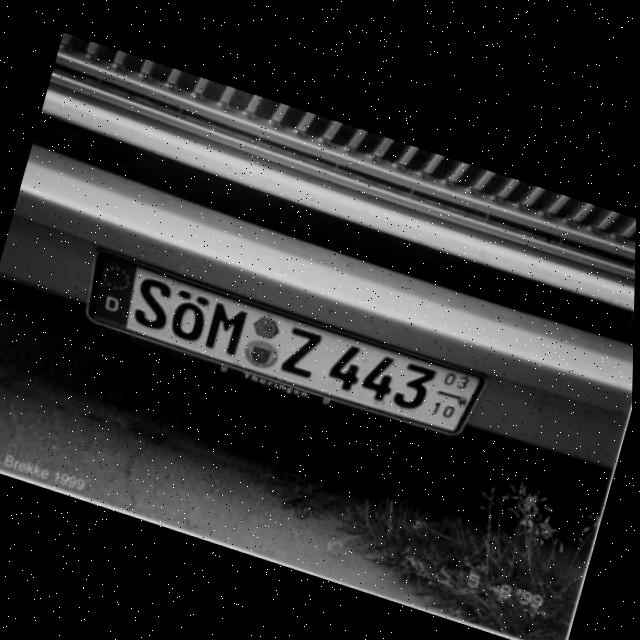license-plates: (86, 251, 485, 436)
